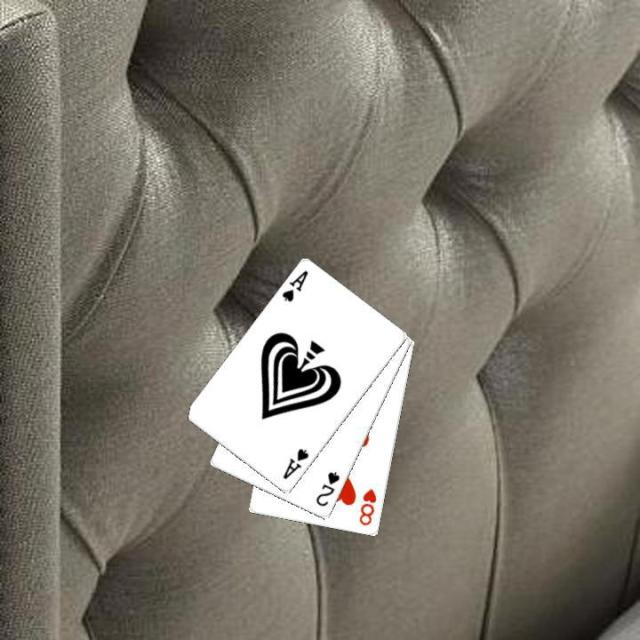2S: (312, 468, 341, 508)
8H: (356, 484, 378, 528)
AS: (279, 444, 311, 482), (278, 267, 310, 304)
